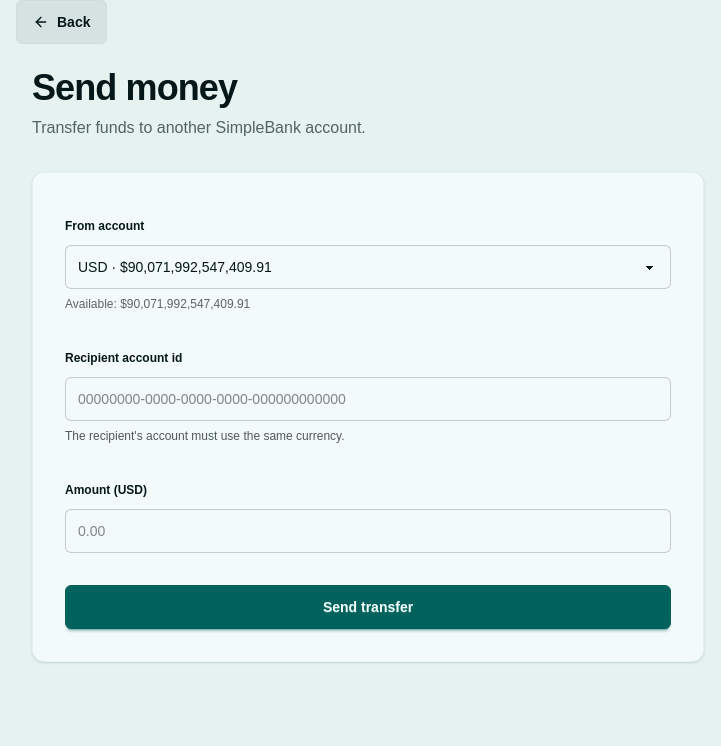
Test: TransferPage › submits maximum-safe USD decimal text exactly
In the field labelled "Recipient account id": (368, 399) [65,377,671,421], type "recipient"
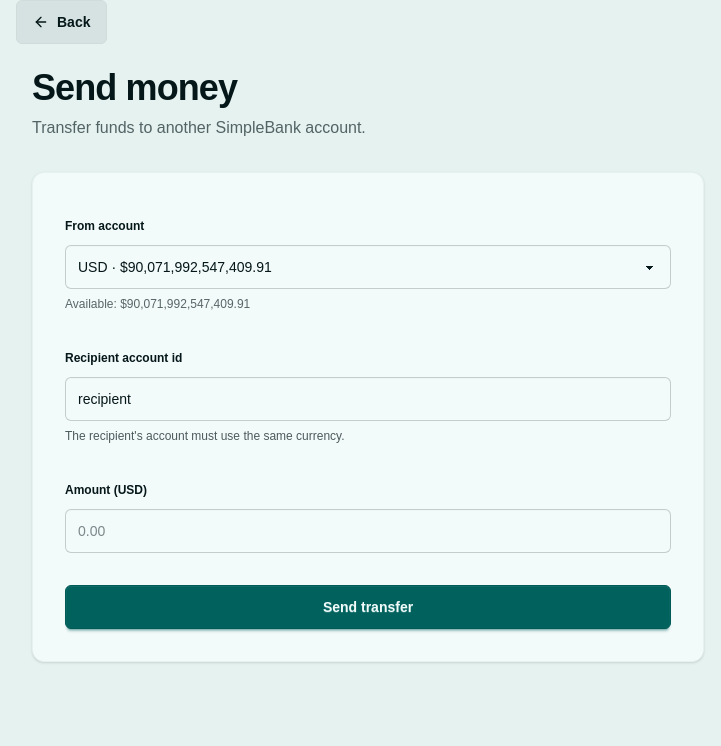
In the field labelled "Amount (USD)": (368, 531) [65,509,671,553], type "90071992547409.91"
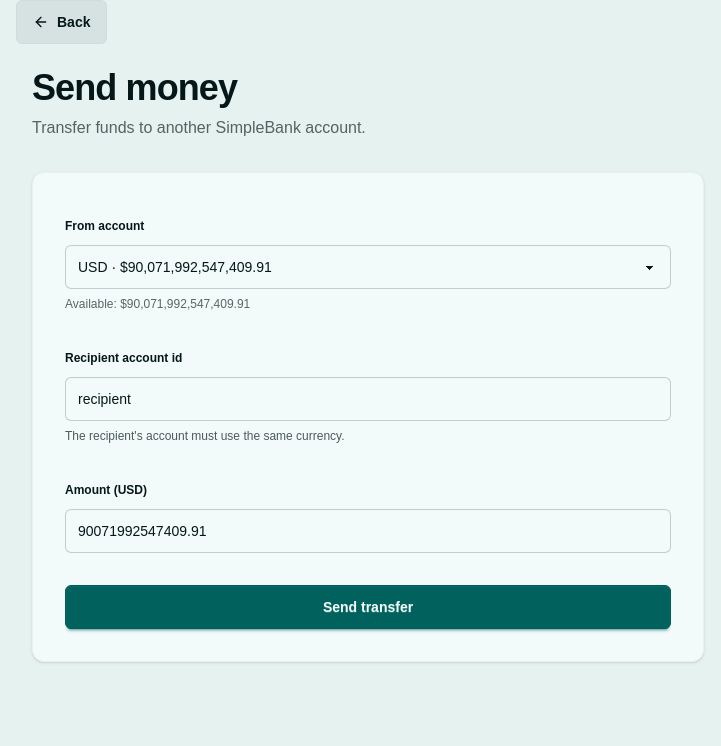
Click the button "Send transfer": (368, 607) [65,585,671,629]
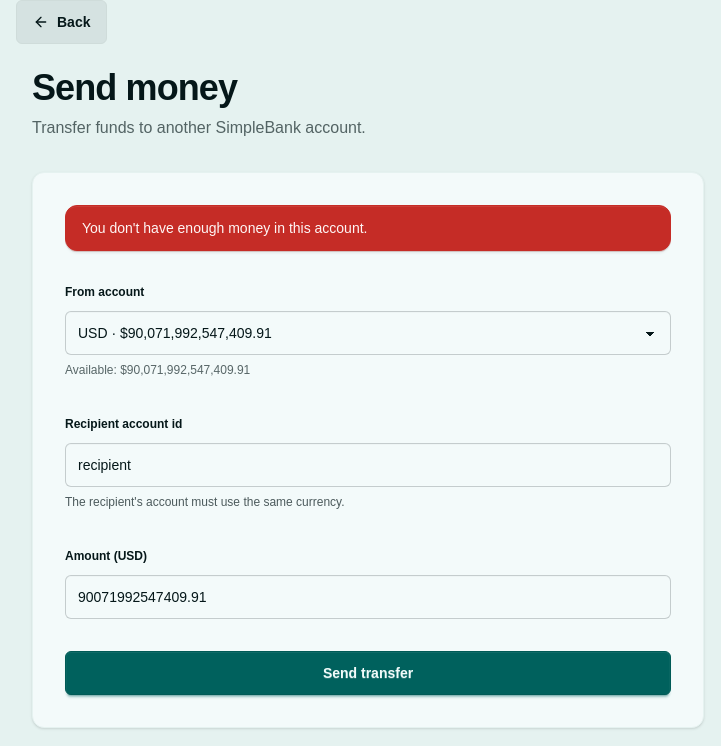
Result: the message "You don't have enough money in this account." is shown at [65,205,671,251]
